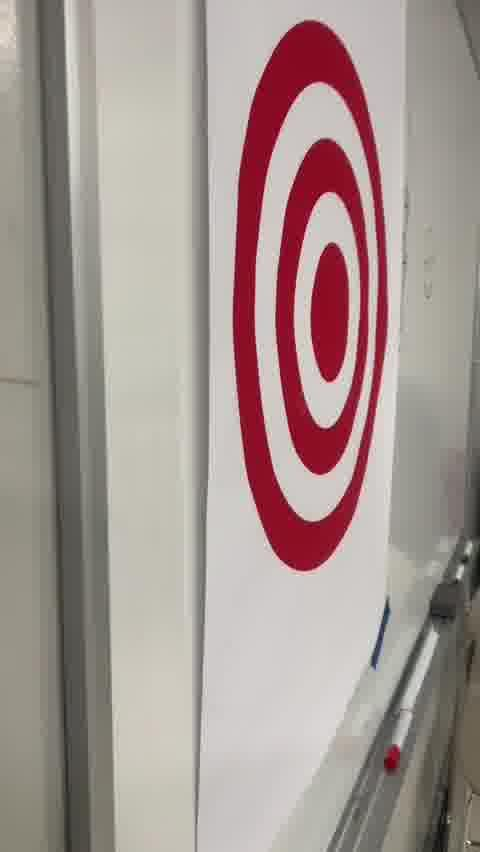target_red: (233, 18, 390, 571)
